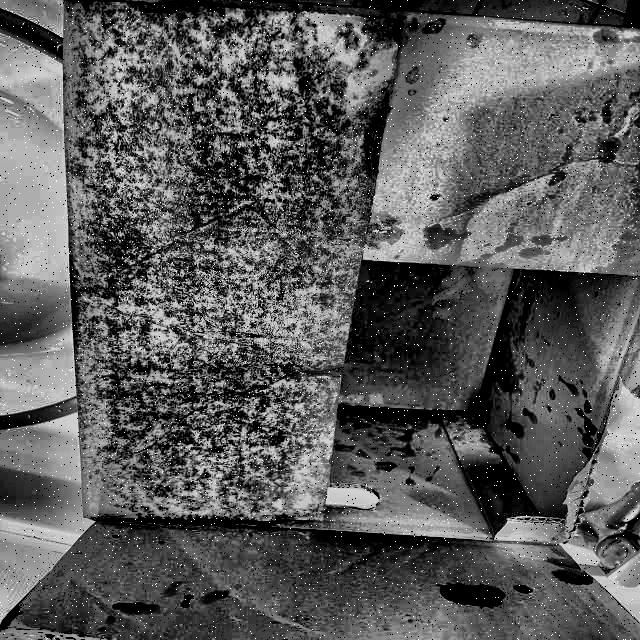box: (1, 2, 640, 640)
wet: (78, 10, 349, 534), (361, 268, 514, 436)
